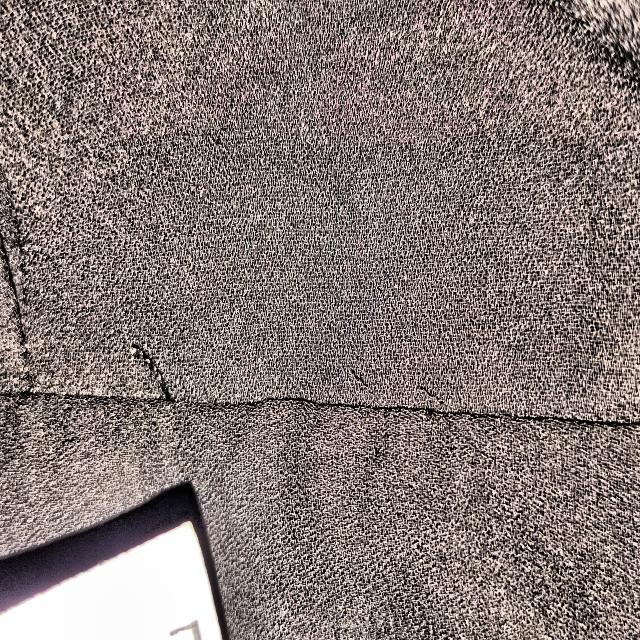Stitch: (350, 355, 480, 444), (123, 335, 182, 425)
